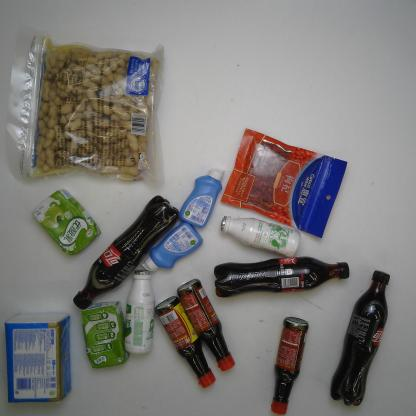Dried Food: (7, 25, 165, 183)
Dried Fruit: (221, 123, 348, 238)
Drink: (69, 194, 180, 311), (328, 266, 392, 407), (212, 256, 352, 298)
Milk: (34, 188, 101, 254), (80, 300, 130, 369), (220, 214, 302, 256), (120, 270, 158, 351)
Personal Hygiene: (139, 220, 204, 275), (177, 164, 227, 227)
Seasoner: (152, 294, 217, 388), (179, 280, 237, 369), (268, 316, 310, 416)
Tissue: (2, 311, 72, 403)
